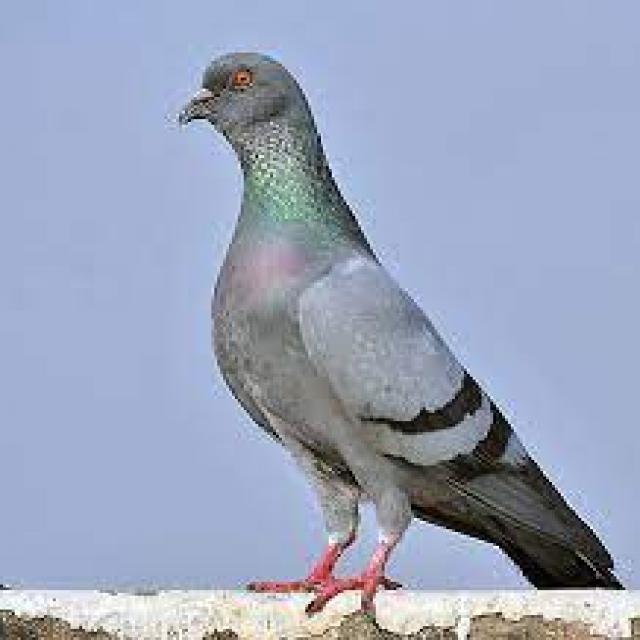bird: (171, 47, 625, 626)
